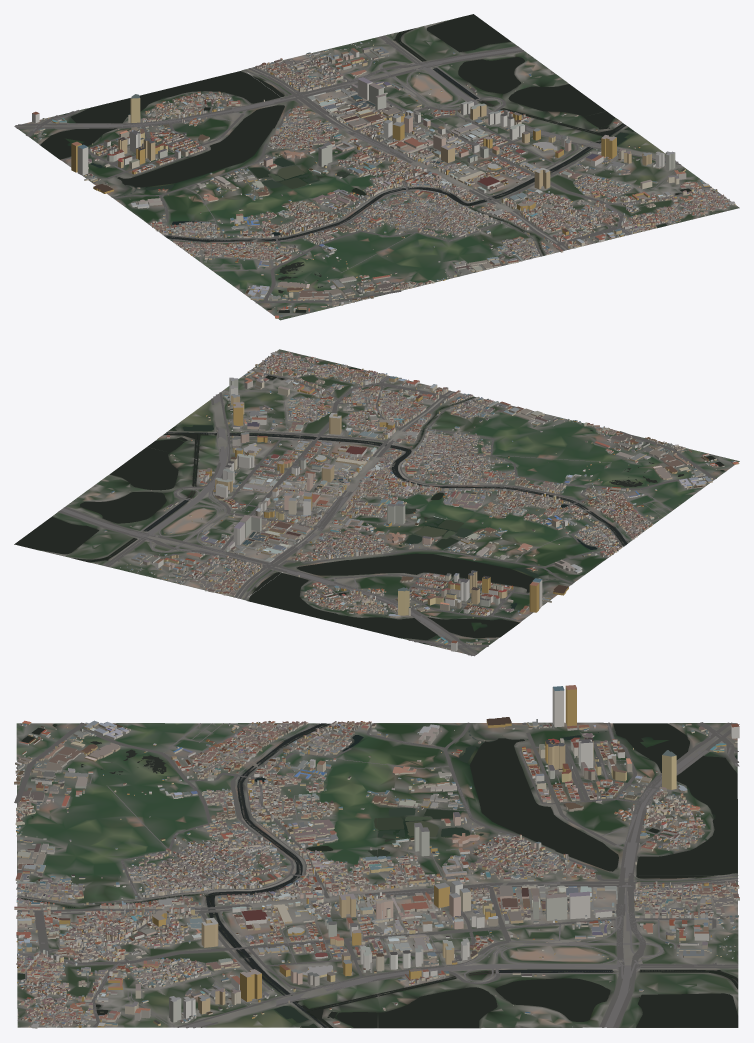
3 renders of one model, top to bottom at view 1: azimuth 30°, elevation 25°; view 2: azimuth 150°, elevation 25°; view 3: azimuth 270°, elevation 25°, orthographic. The views are drawn at different scales.
Visible parts, largest first — view 1: ground, buildings, water, roads; view 2: ground, buildings, water, roads; view 3: ground, buildings, water, roads.
Boxes of the visible parts, bbox=[...] form: ground: bbox=[14, 19, 739, 320]; buildings: bbox=[32, 40, 735, 318]; water: bbox=[40, 14, 691, 312]; roads: bbox=[15, 35, 729, 307]; ground: bbox=[14, 349, 739, 656]; buildings: bbox=[75, 351, 739, 651]; water: bbox=[14, 367, 724, 644]; roads: bbox=[58, 352, 716, 656]; ground: bbox=[16, 722, 738, 1028]; buildings: bbox=[14, 685, 739, 1028]; water: bbox=[17, 723, 738, 1027]; roads: bbox=[14, 722, 739, 1028].
Bounding box in the file's own units: 2843 × 162 × 2823.
